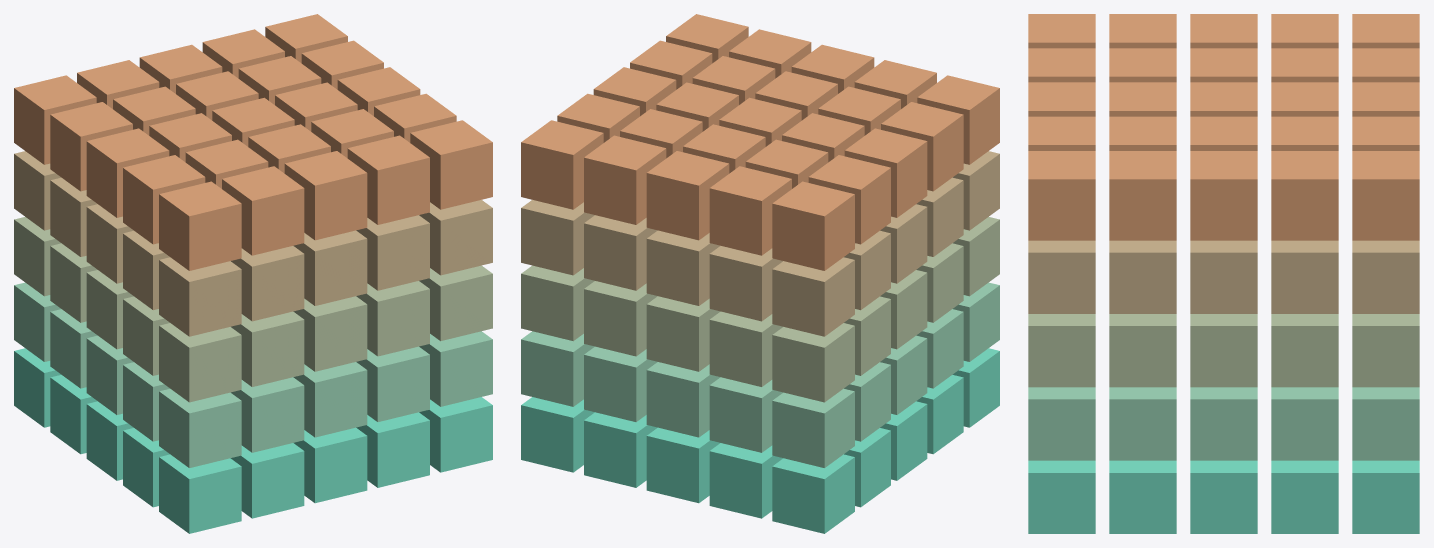
The model's file is cours-rubiks-cube.glb.
The picture shows the model from 3 angles, left to right: view 1: azimuth 30°, elevation 25°; view 2: azimuth 150°, elevation 25°; view 3: azimuth 270°, elevation 25°; orthographic projection. The views are drawn at different scales.
Visible parts, largest first — view 1: Cube.225, Cube.125, Cube.200, Cube.175, Cube.150, Cube.235, Cube.230, Cube.240, Cube.245, Cube.130, Cube.205, Cube.135 (+49 smaller); view 2: Cube.229, Cube.129, Cube.204, Cube.179, Cube.154, Cube.239, Cube.234, Cube.244, Cube.249, Cube.134, Cube.209, Cube.139 (+49 smaller); view 3: Cube.245, Cube.246, Cube.247, Cube.248, Cube.249, Cube.145, Cube.146, Cube.147, Cube.148, Cube.149, Cube.170, Cube.171 (+33 smaller).
Boxes of the visible parts, box(x1,y1,x2,y2) form: Cube.225: box(159, 181, 241, 270); Cube.125: box(159, 454, 241, 533); Cube.200: box(159, 257, 241, 336); Cube.175: box(159, 323, 241, 402); Cube.150: box(159, 388, 241, 467); Cube.235: box(284, 151, 367, 240); Cube.230: box(222, 166, 304, 255); Cube.240: box(347, 135, 429, 224); Cube.245: box(410, 120, 492, 209); Cube.130: box(230, 443, 304, 518); Cube.205: box(231, 246, 304, 321); Cube.135: box(294, 427, 367, 503); Cube.229: box(772, 181, 854, 270); Cube.129: box(772, 454, 854, 533); Cube.204: box(772, 257, 854, 336); Cube.179: box(772, 323, 854, 402); Cube.154: box(772, 388, 854, 467); Cube.239: box(646, 151, 729, 240); Cube.234: box(709, 166, 791, 255); Cube.244: box(584, 135, 666, 224); Cube.249: box(521, 120, 603, 209); Cube.134: box(709, 443, 783, 518); Cube.209: box(709, 246, 782, 321); Cube.139: box(646, 427, 719, 503); Cube.245: box(1028, 151, 1095, 240); Cube.246: box(1109, 151, 1176, 240); Cube.247: box(1190, 151, 1257, 240); Cube.248: box(1271, 151, 1338, 240); Cube.249: box(1352, 151, 1419, 240); Cube.145: box(1028, 460, 1095, 533); Cube.146: box(1109, 460, 1176, 533); Cube.147: box(1190, 460, 1257, 533); Cube.148: box(1271, 460, 1338, 533); Cube.149: box(1352, 460, 1419, 533); Cube.170: box(1028, 387, 1095, 460); Cube.171: box(1109, 387, 1176, 460).
Size of the model in its own units: 4 by 4 by 4.
